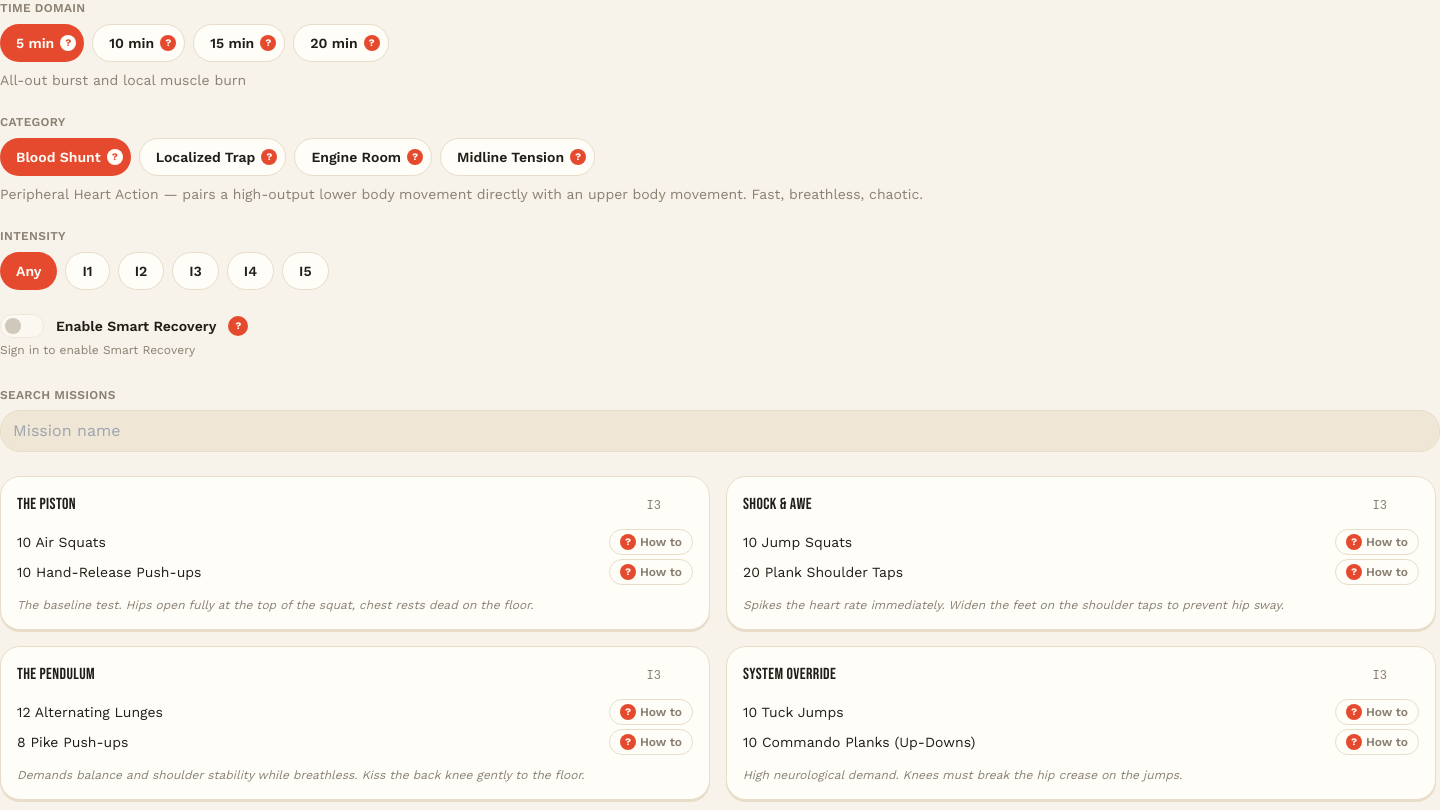
Scenario: WorkoutTemplatePicker › puts an icon-only style guide control inside each category chip
Click the button named "What's Blood Shunt?". click: click(115, 157)
box: [107, 149, 123, 165]
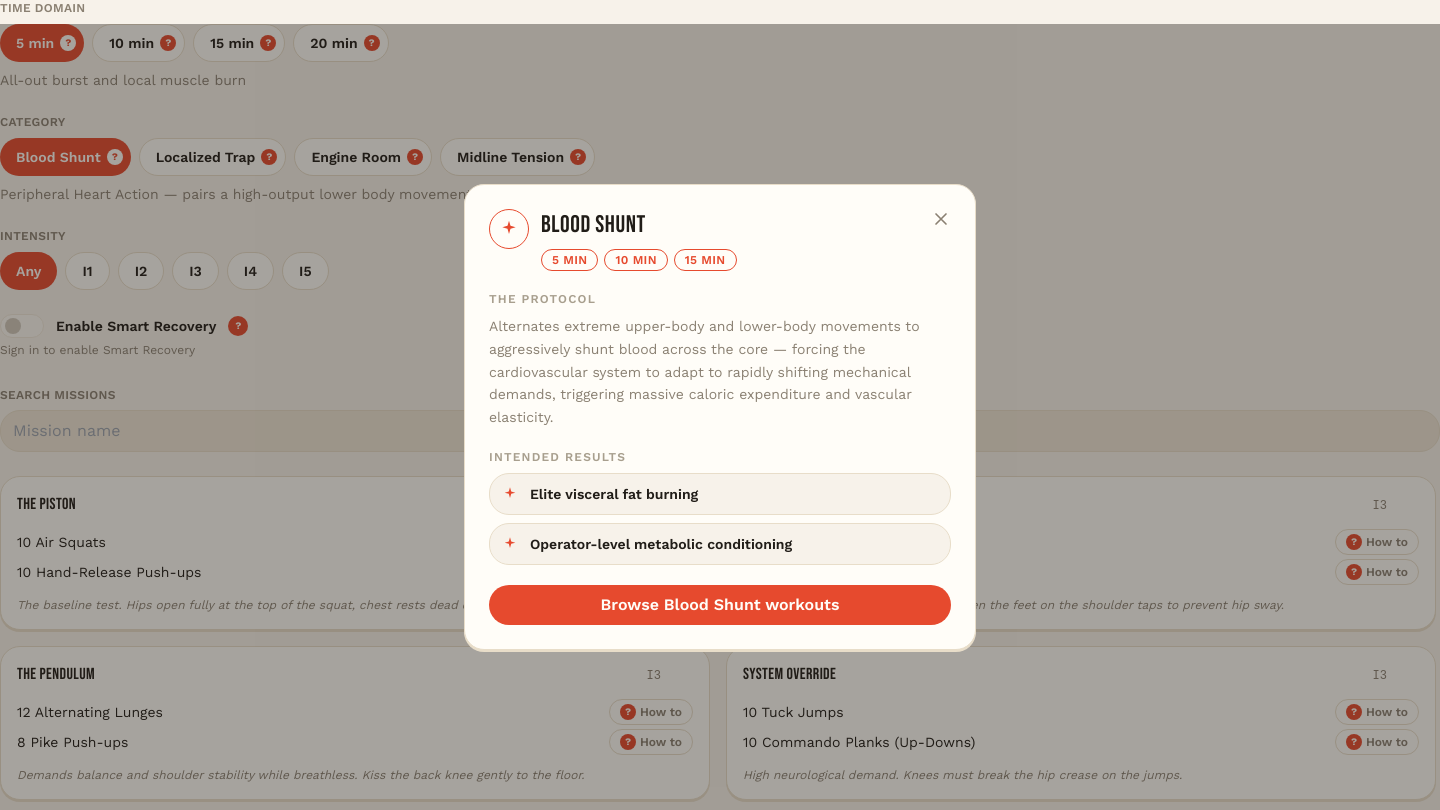
Expected: the dialog is shown
